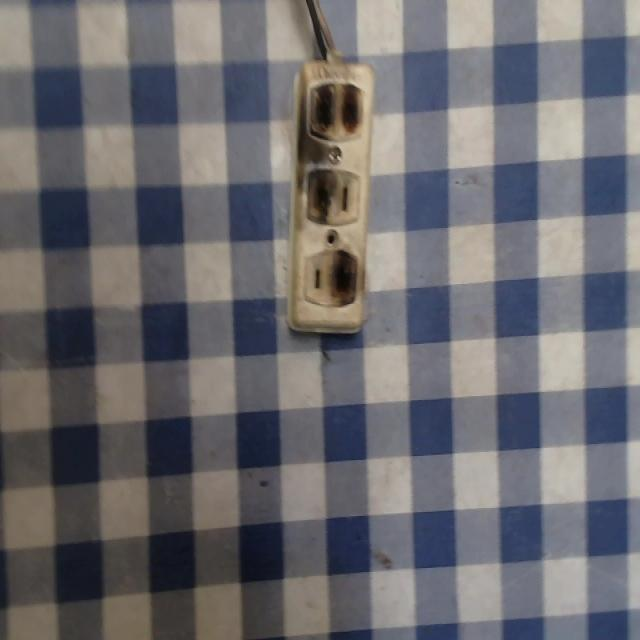-: (308, 74, 372, 138), (300, 154, 339, 234), (328, 240, 360, 311)
